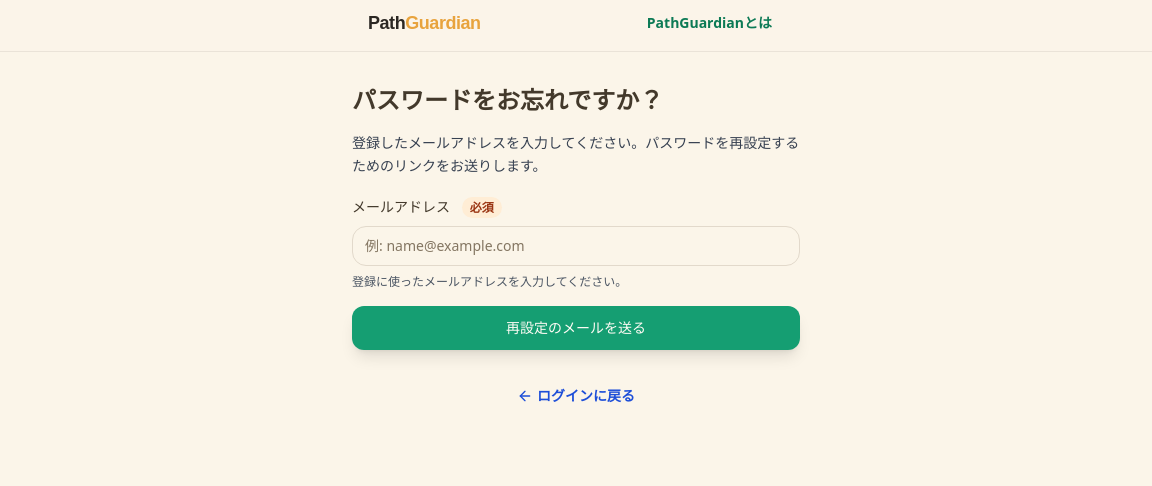
Test: ForgotPasswordPage › 変換できないエラーは、英語のまま出さない
Type "parent@example.com" into the field with test id "forgot-password-email" at (576, 246), box [352,226,800,266]
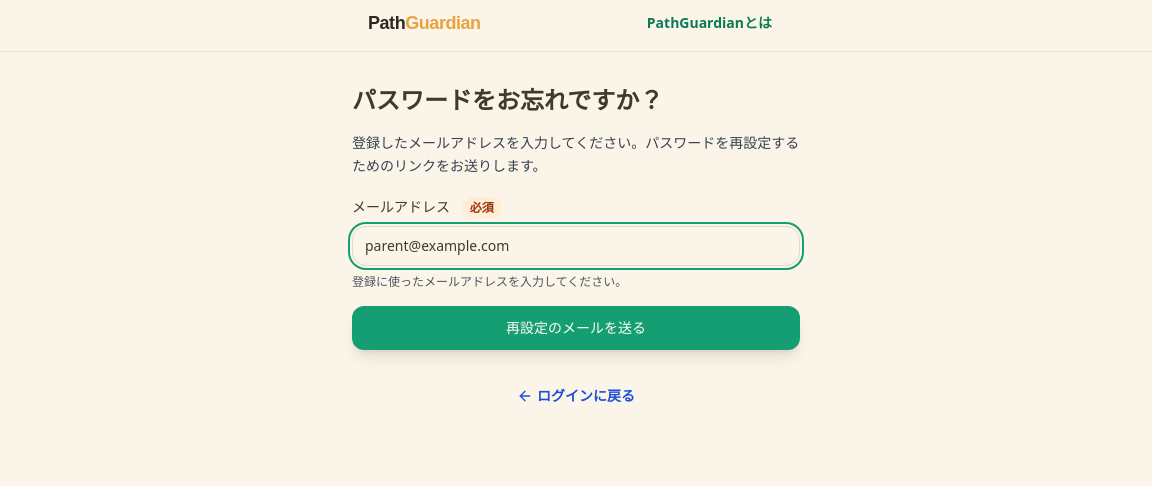
Click the button with test id "forgot-password-submit" at (576, 328), box [352,306,800,350]
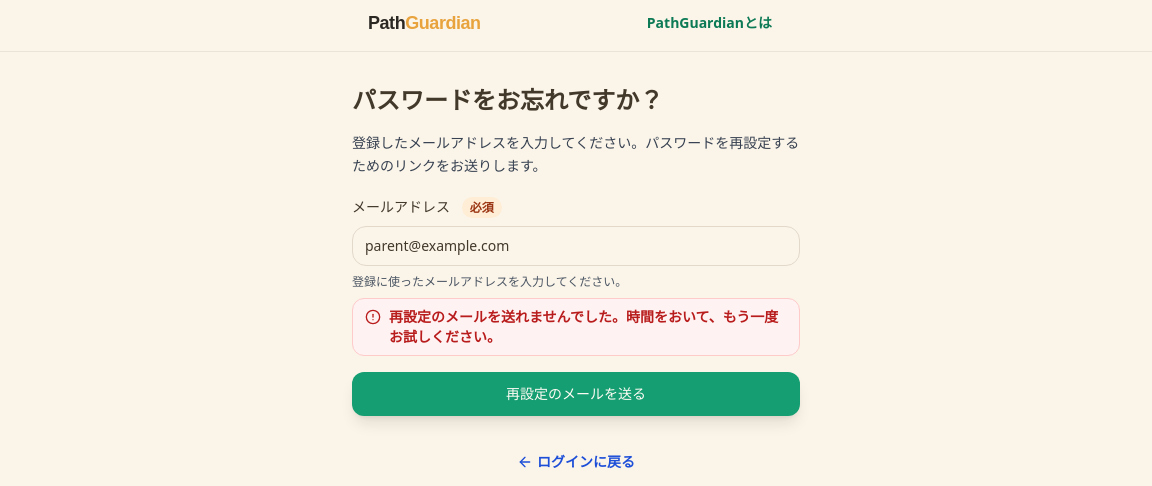
Expected: the message does not show "Unexpected", [352,298,800,356]
Expected: the message shows "再設定のメールを送れませんでした", [389,306,778,346]
